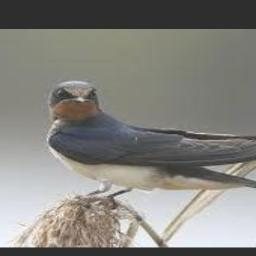Swallow: (45, 80, 256, 198)
